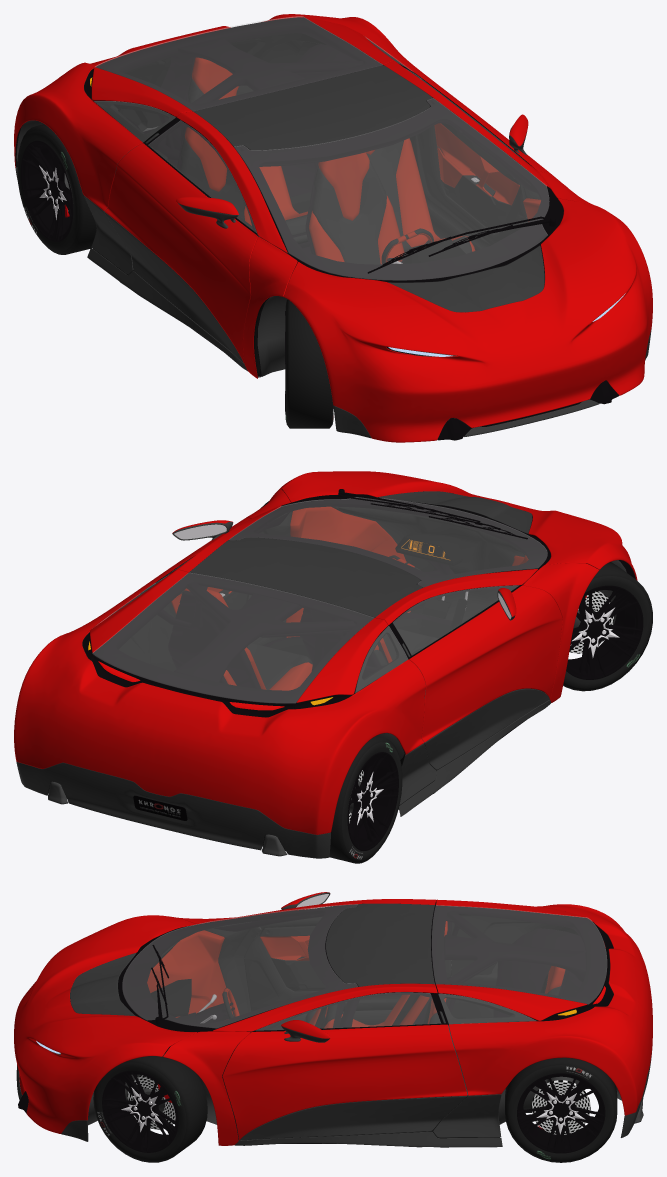
Rendered from car.glb.
The picture shows the model from 3 angles, top to bottom: view 1: azimuth 30°, elevation 25°; view 2: azimuth 150°, elevation 25°; view 3: azimuth 270°, elevation 25°; orthographic projection. The views are drawn at different scales.
Parts seen in each view (by area): view 1: BodyHood, BodyWindshield, BodyRearwindow, BodyDoorRColor1, BodyRearPanelsColor1, BodyRoofPanel, BodyWindshieldGasket, InteriorSeatsColor1, InteriorSeatsColor2, BodyPillars, InteriorPillar, InteriorRearHatch (+21 smaller); view 2: BodyRearPanelsColor1, BodyRearwindow, BodyWindshield, BodyDoorRColor1, BodyPanelsColor2, BodyRoofPanel, BodyHood, InteriorRearHatch, BodyPillars, InteriorPillar, BodyWindshieldGasket, InteriorDashMid (+22 smaller); view 3: BodyRearPanelsColor1, BodyWindshield, BodyDoorLColor1, BodyHood, BodyRearwindow, BodyRoofPanel, BodyPillars, BodyWindshieldGasket, BodyDoorLColor2, BodyPanelsColor2, WheelFrontL, InteriorRearHatch (+25 smaller).
Boxes of the visible parts, left/top/right/bottom form: BodyHood: left=283, top=198, right=652, bottom=442; BodyWindshield: left=234, top=98, right=549, bottom=280; BodyRearwindow: left=95, top=16, right=382, bottom=110; BodyDoorRColor1: left=104, top=143, right=257, bottom=362; BodyRearPanelsColor1: left=14, top=14, right=428, bottom=210; BodyRoofPanel: left=193, top=65, right=432, bottom=150; BodyWindshieldGasket: left=234, top=99, right=563, bottom=282; InteriorSeatsColor1: left=185, top=57, right=475, bottom=264; InteriorSeatsColor2: left=180, top=78, right=472, bottom=264; BodyPillars: left=176, top=61, right=598, bottom=378; InteriorPillar: left=158, top=37, right=434, bottom=168; InteriorRearHatch: left=93, top=17, right=383, bottom=117; BodyRearPanelsColor1: left=14, top=569, right=425, bottom=834; BodyRearwindow: left=92, top=573, right=373, bottom=703; BodyWindshield: left=229, top=497, right=547, bottom=587; BodyDoorRColor1: left=409, top=585, right=562, bottom=742; BodyPanelsColor2: left=16, top=700, right=550, bottom=858; BodyRoofPanel: left=189, top=537, right=422, bottom=617; BodyHood: left=279, top=471, right=637, bottom=580; InteriorRearHatch: left=93, top=573, right=386, bottom=707; BodyPillars: left=175, top=489, right=599, bottom=702; InteriorPillar: left=174, top=574, right=417, bottom=682; BodyWindshieldGasket: left=230, top=497, right=550, bottom=587; InteriorDashMid: left=331, top=503, right=528, bottom=622; BodyRearPanelsColor1: left=436, top=899, right=652, bottom=1115; BodyWindshield: left=122, top=904, right=357, bottom=1028; BodyDoorLColor1: left=222, top=1024, right=467, bottom=1139; BodyHood: left=14, top=915, right=196, bottom=1133; BodyRearwindow: left=432, top=905, right=606, bottom=1003; BodyRoofPanel: left=326, top=903, right=434, bottom=986; BodyPillars: left=163, top=899, right=437, bottom=1145; BodyWindshieldGasket: left=118, top=905, right=357, bottom=1032; BodyDoorLColor2: left=240, top=1096, right=467, bottom=1140; BodyPanelsColor2: left=16, top=1050, right=652, bottom=1147; WheelFrontL: left=93, top=1054, right=207, bottom=1162; InteriorRearHatch: left=431, top=905, right=606, bottom=1020.
Bounding box in the file's own units: 2.54 × 1.15 × 4.36.
Materials: 23 (6 with a texture image).
